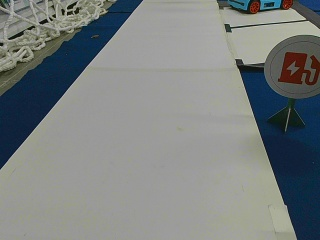battery: (263, 34, 319, 99)
car: (227, 1, 294, 13)
